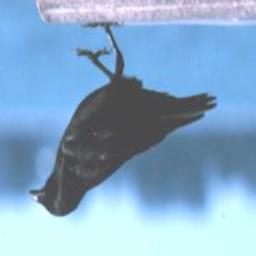Crow: (26, 20, 220, 225)
